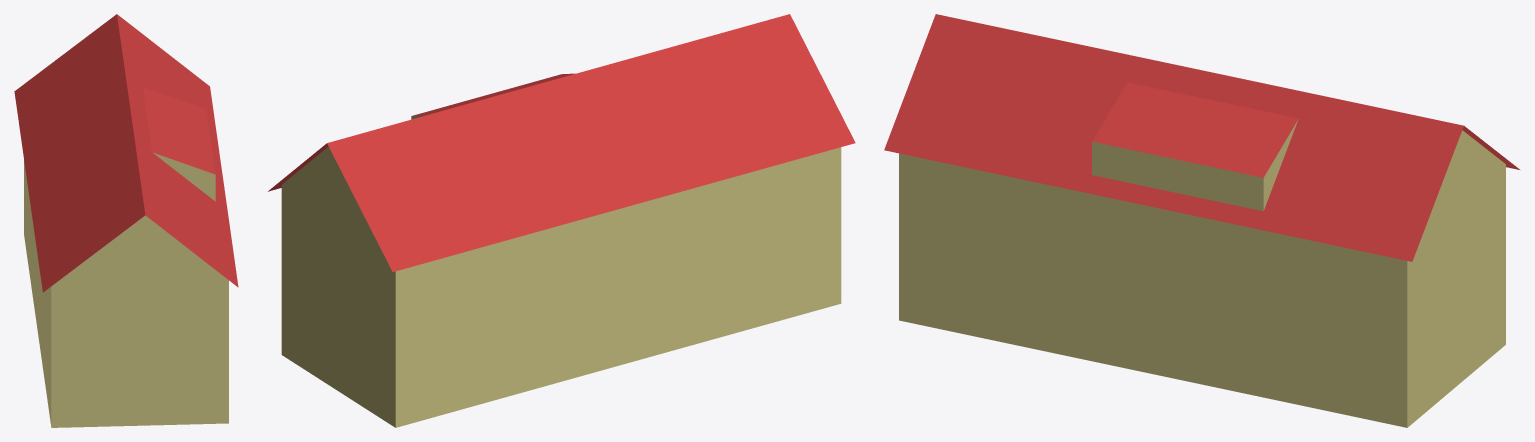
The picture shows the model from 3 angles, left to right: view 1: azimuth 30°, elevation 25°; view 2: azimuth 150°, elevation 25°; view 3: azimuth 270°, elevation 25°; orthographic projection. The views are drawn at different scales.
Bounding box in the file's own units: 21.58 × 28.55 × 13.11.
